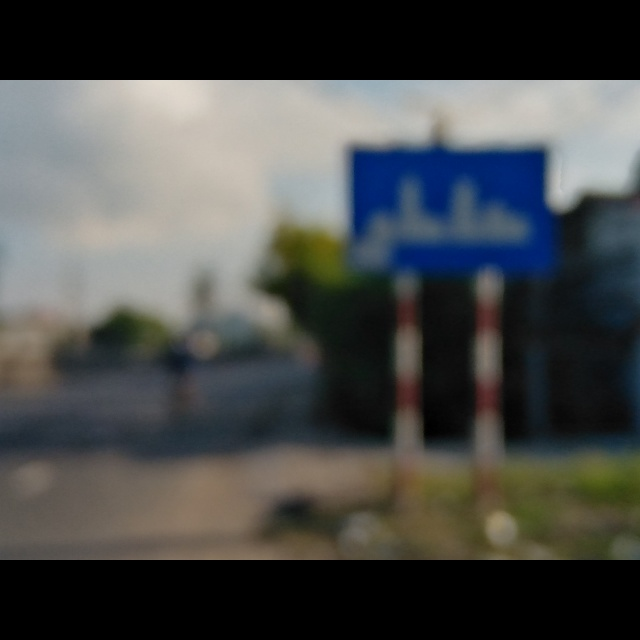Khu đông dân cư: (345, 145, 549, 274)
